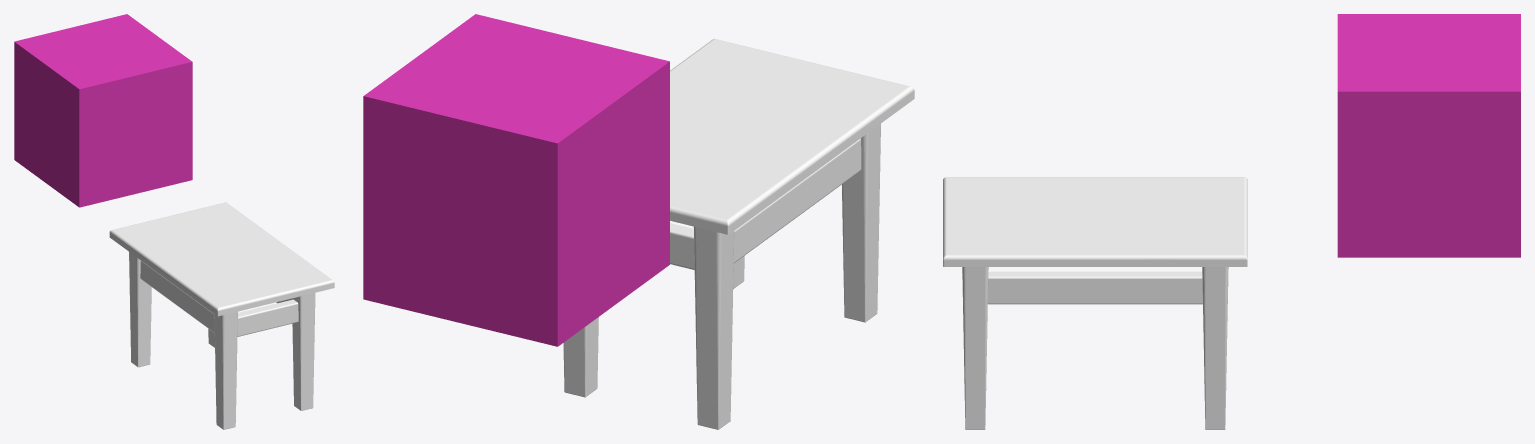
The model's file is demo.glb.
The picture shows the model from 3 angles, left to right: view 1: azimuth 30°, elevation 25°; view 2: azimuth 150°, elevation 25°; view 3: azimuth 270°, elevation 25°; orthographic projection. The views are drawn at different scales.
Parts seen in each view (by area): view 1: Cube, node_id5; view 2: Cube, node_id5; view 3: Cube, node_id5.
Part boxes in pixels (left/top/right/bottom): Cube: left=14, top=14, right=192, bottom=207; node_id5: left=109, top=202, right=334, bottom=429; Cube: left=363, top=14, right=669, bottom=346; node_id5: left=563, top=38, right=914, bottom=429; Cube: left=1337, top=14, right=1520, bottom=257; node_id5: left=943, top=177, right=1247, bottom=429.
Size of the model in its own units: 0.483 by 0.9701 by 1.47.
